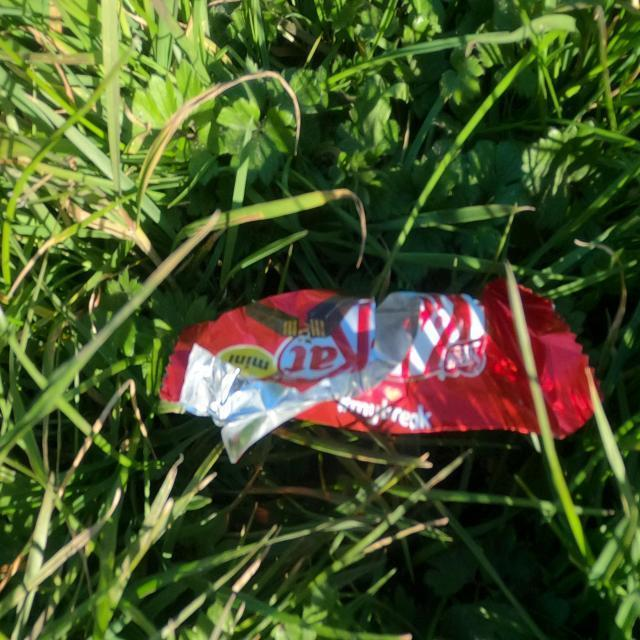Plastic: (158, 276, 606, 466)
